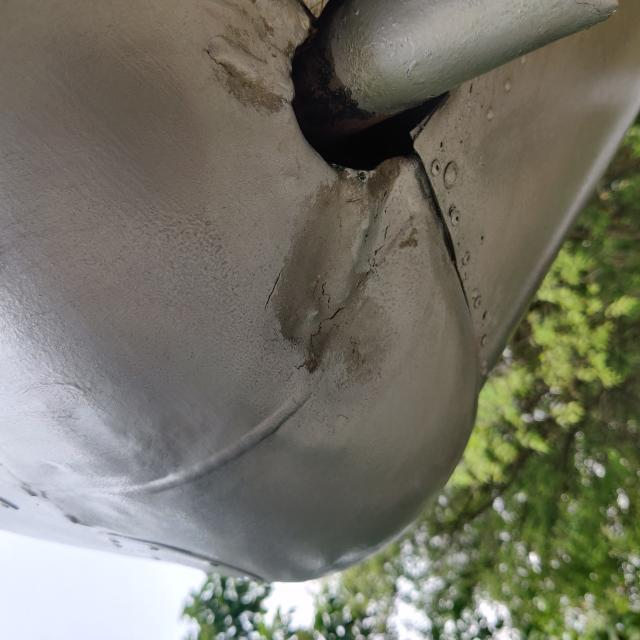dent: (230, 236, 487, 458), (508, 188, 623, 305)
